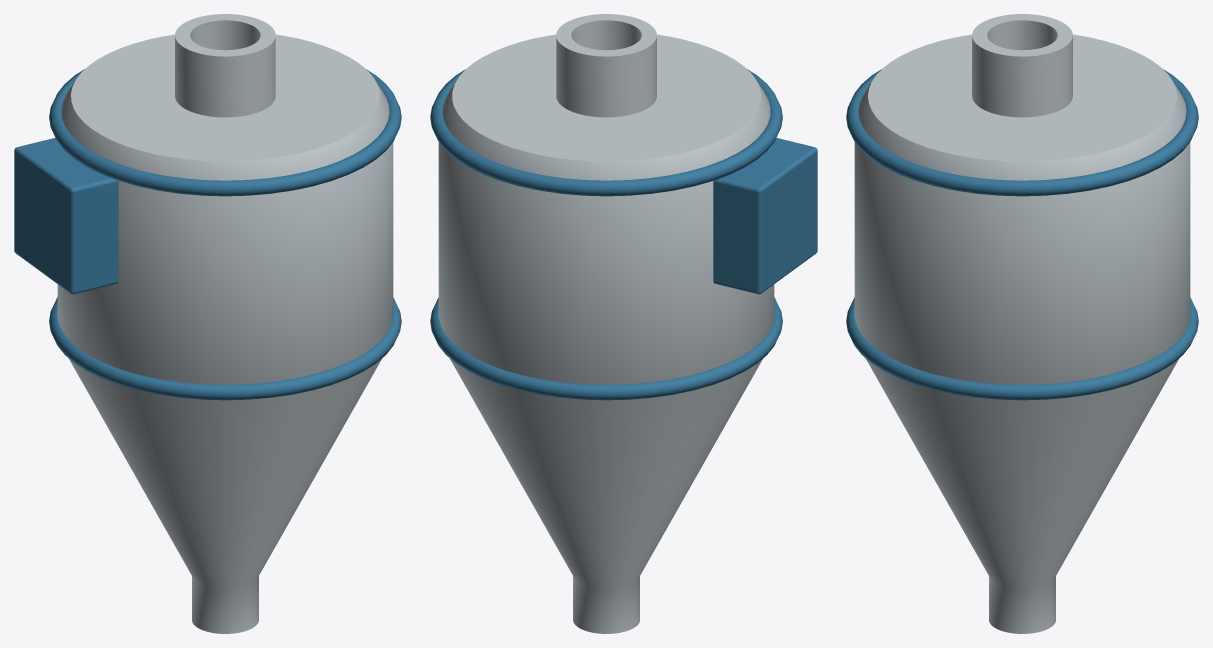
The model's file is recycling-centre-and-material-sorting-cyclone-separato-b75d900d__31116.glb.
3 views of the same model, side by side, from view 1: azimuth 30°, elevation 25°; view 2: azimuth 150°, elevation 25°; view 3: azimuth 270°, elevation 25° (orthographic).
Visible parts, largest first — view 1: cyclone-separator; view 2: cyclone-separator; view 3: cyclone-separator.
Boxes of the visible parts, x1,y1,x2,y2 form: cyclone-separator: (14,14,401,633); cyclone-separator: (430,14,817,633); cyclone-separator: (846,14,1198,633).
Size of the model in its own units: 1.15 by 1.92 by 1.05.
